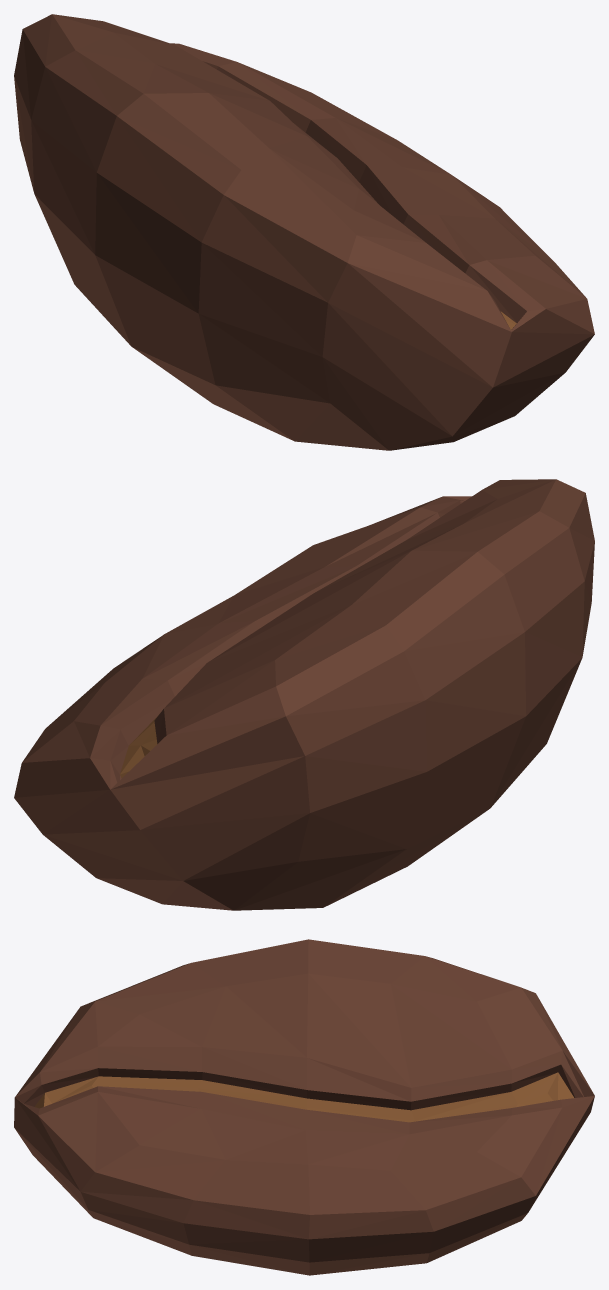
Rendered from coffee_bean.glb.
The picture shows the model from 3 angles, top to bottom: view 1: azimuth 30°, elevation 25°; view 2: azimuth 150°, elevation 25°; view 3: azimuth 270°, elevation 25°; orthographic projection. The views are drawn at different scales.
Visible parts, largest first — view 1: Object_4; view 2: Object_4, Object_5; view 3: Object_4, Object_5.
Boxes of the visible parts, box(x1,y1,x2,y2) form: Object_4: box(14, 14, 594, 450); Object_4: box(14, 479, 594, 910); Object_5: box(120, 715, 158, 778); Object_4: box(14, 939, 594, 1275); Object_5: box(35, 1072, 573, 1122).
Size of the model in its own units: 1.41 by 1.17 by 2.36.
